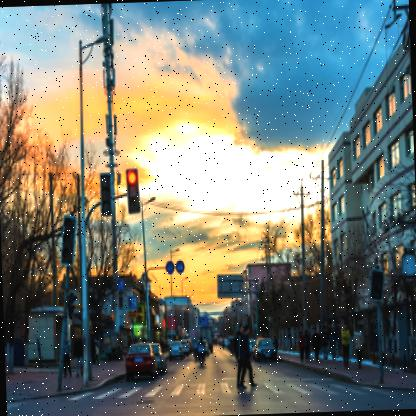trafficlight: (61, 209, 81, 267), (126, 162, 143, 214), (101, 171, 115, 215)
